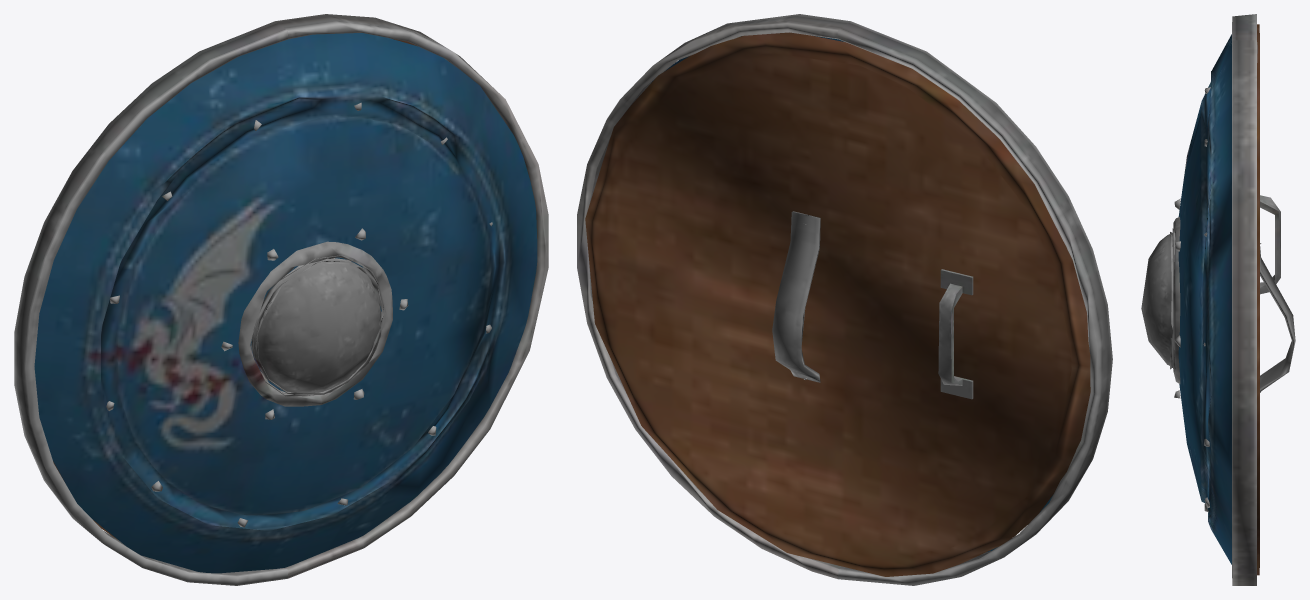
The model's file is shield.glb.
3 views of the same model, side by side, from view 1: azimuth 30°, elevation 25°; view 2: azimuth 150°, elevation 25°; view 3: azimuth 270°, elevation 25° (orthographic). The views are drawn at different scales.
Visible parts, largest first — view 1: defaultMaterial; view 2: defaultMaterial; view 3: defaultMaterial.
Boxes of the visible parts, x1,y1,x2,y2 form: defaultMaterial: (14, 14, 548, 585); defaultMaterial: (577, 14, 1112, 585); defaultMaterial: (1141, 14, 1295, 585).
Bounding box in the file's own units: 4.35 × 4.36 × 1.18.
Materials: 1 (1 with a texture image).
